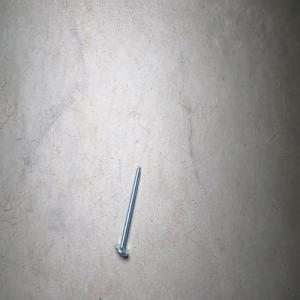Bolt: (114, 163, 141, 256)
